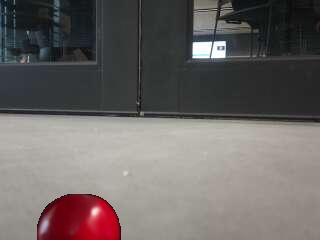Tomato: (36, 194, 122, 240)
